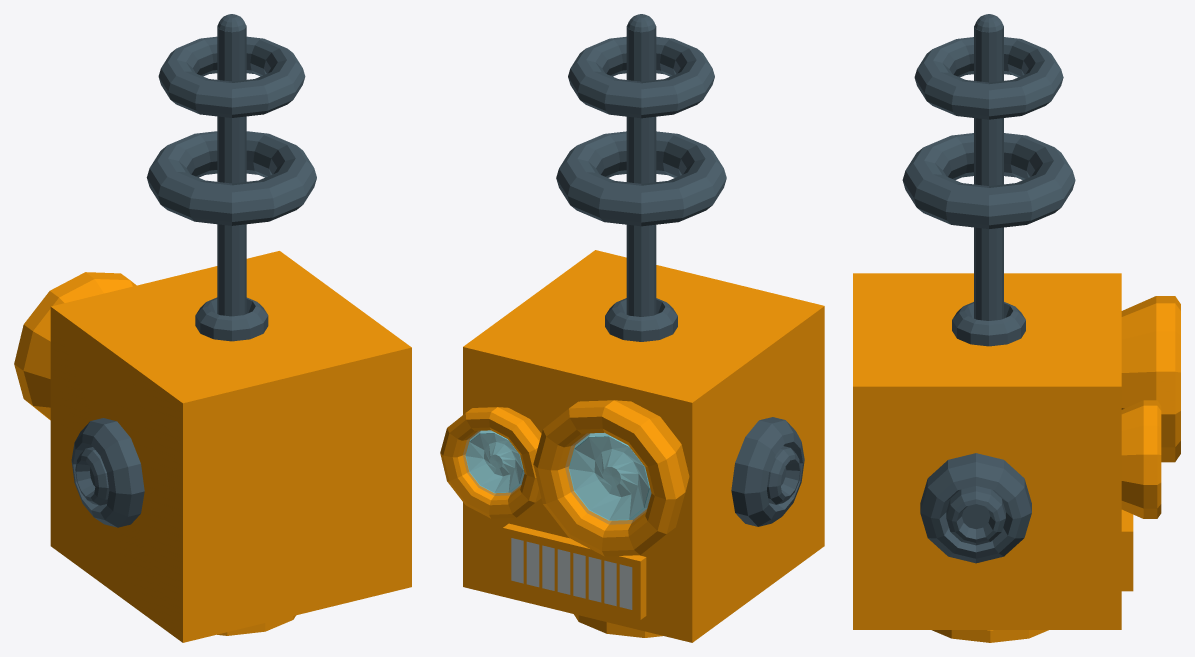
The model's file is head01.glb.
3 views of the same model, side by side, from view 1: azimuth 30°, elevation 25°; view 2: azimuth 150°, elevation 25°; view 3: azimuth 270°, elevation 25° (orthographic).
Visible parts, largest first — view 1: head1; view 2: head1; view 3: head1.
Part boxes in pixels (x1,y1,x2,y2): head1: (14,14,411,642); head1: (440,14,824,642); head1: (853,14,1180,642).
Bounding box in the file's own units: 0.6707 × 1.27 × 0.632.
